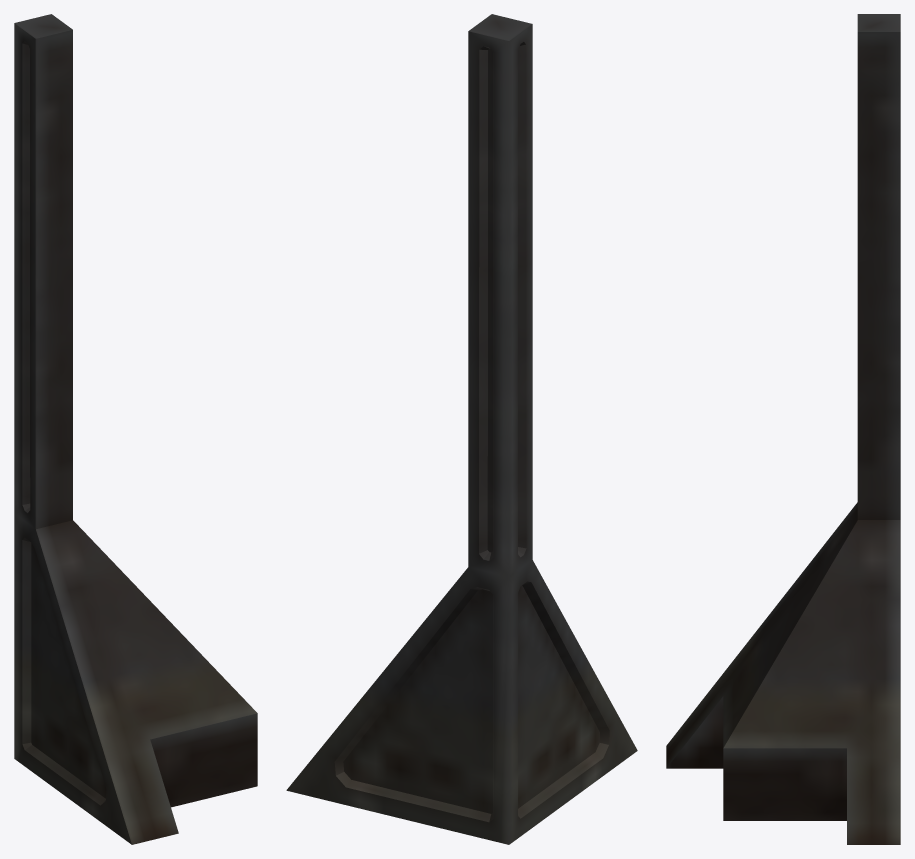
Rendered from Wall_18.FBX.
The picture shows the model from 3 angles, left to right: view 1: azimuth 30°, elevation 25°; view 2: azimuth 150°, elevation 25°; view 3: azimuth 270°, elevation 25°; orthographic projection. The views are drawn at different scales.
Parts seen in each view (by area): view 1: Wall_18; view 2: Wall_18; view 3: Wall_18.
Part boxes in pixels (x1=…): Wall_18: x1=14, y1=14, x2=257, y2=844; Wall_18: x1=286, y1=14, x2=637, y2=844; Wall_18: x1=666, y1=14, x2=900, y2=844.
Bounding box in the file's own units: 87.08 × 300 × 87.08.
